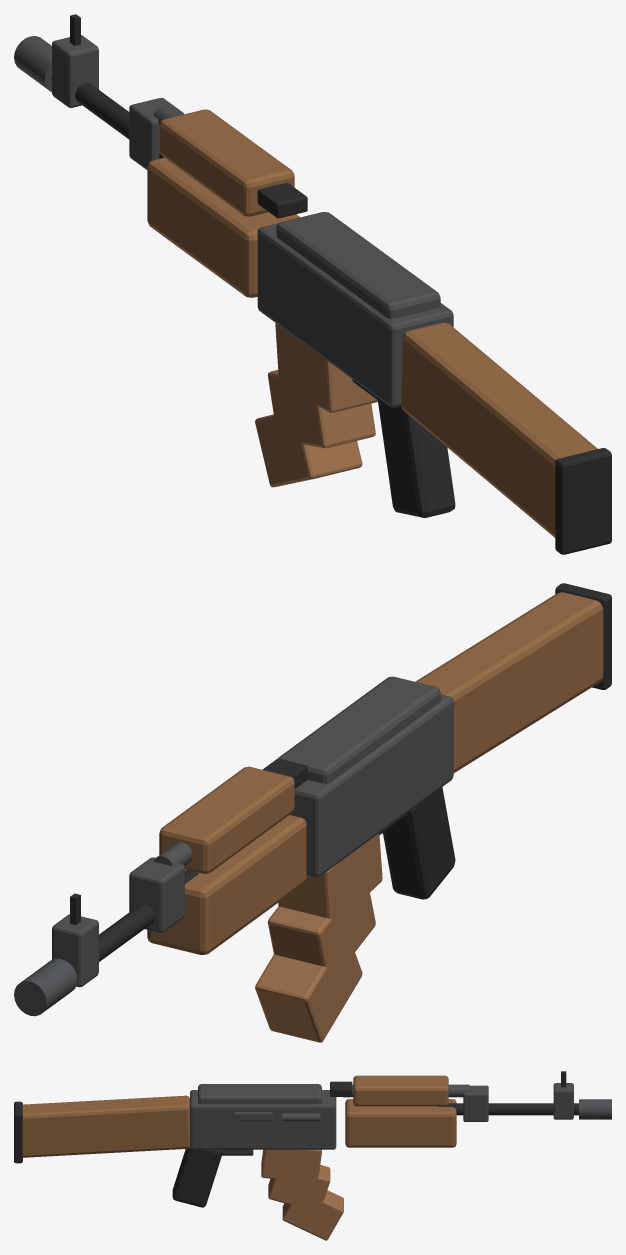
3 views of the same model, one above another, from view 1: azimuth 30°, elevation 25°; view 2: azimuth 150°, elevation 25°; view 3: azimuth 270°, elevation 25° (orthographic). The views are drawn at different scales.
Visible parts, largest first — view 1: Stock, Receiver, Handguard, DustCover, UpperHandguard, PistolGrip, ButtPlate, MagMid, MagBottom, MagTop, FrontSightBase, GasBlock (+3 smaller); view 2: Stock, Receiver, Handguard, UpperHandguard, DustCover, MagBottom, PistolGrip, MagMid, MagTop, GasBlock, FrontSightBase, MuzzleBrake (+4 smaller); view 3: Stock, Receiver, Handguard, UpperHandguard, DustCover, PistolGrip, MagBottom, MagTop, MagMid, Barrel, GasBlock, FrontSightBase (+6 smaller).
Part boxes in pixels (x1,y1,x2,y2): Stock: (401,322,597,537); Receiver: (257,223,453,407); Handguard: (147,157,300,297); DustCover: (276,212,440,318); UpperHandguard: (159,109,294,216); PistolGrip: (377,398,455,517); ButtPlate: (555,448,611,554); MagMid: (267,370,375,448); MagBottom: (255,414,362,487); MagTop: (275,323,377,412); FrontSightBase: (52,35,98,107); GasBlock: (129,98,183,169); Stock: (415,592,603,772); Receiver: (290,694,453,876); Handguard: (147,815,306,954); UpperHandguard: (159,766,294,873); DustCover: (278,676,440,783); MagBottom: (255,936,362,1042); PistolGrip: (383,787,455,899); MagMid: (267,877,375,966); MagTop: (278,833,382,926); GasBlock: (129,857,184,932); FrontSightBase: (52,914,98,987); MuzzleBrake: (14,958,77,1016); Stock: (22,1095,189,1157); Receiver: (190,1090,336,1149); Handguard: (345,1099,456,1147); UpperHandguard: (353,1075,448,1106); DustCover: (198,1084,321,1104); PistolGrip: (172,1148,222,1207); MagBottom: (282,1190,343,1240); MagTop: (261,1149,321,1181); MagMid: (268,1165,330,1208); Barrel: (438,1103,578,1115); GasBlock: (463,1085,488,1121); FrontSightBase: (553,1083,573,1119).
Bounding box in the file's own units: 0.0755 × 0.2819 × 0.941.
